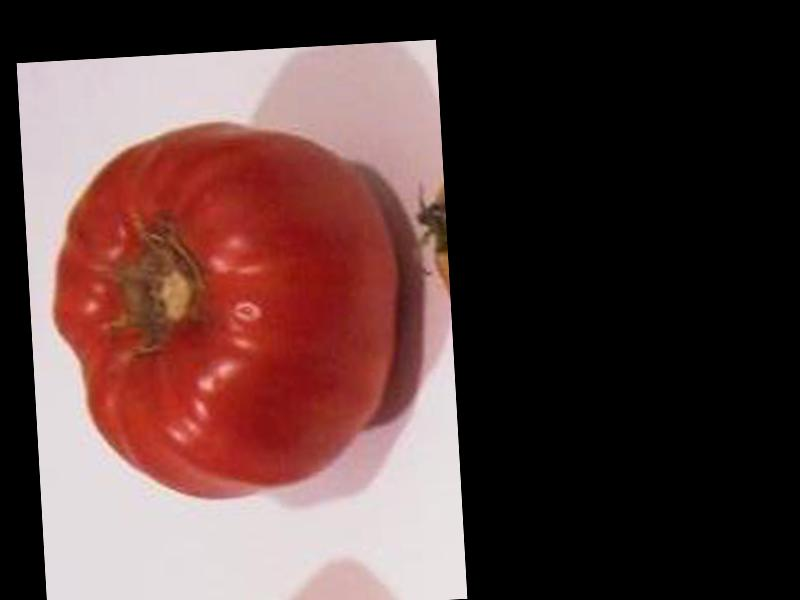Tomato: (45, 115, 404, 503)
